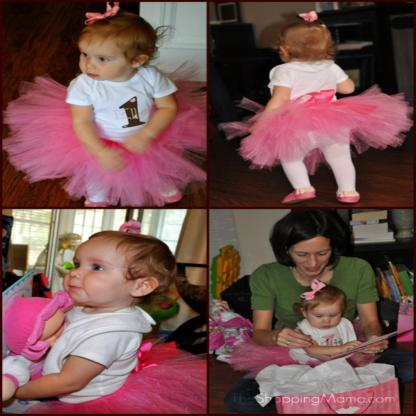face: (65, 236, 131, 305), (81, 37, 130, 82), (290, 238, 333, 278), (306, 306, 342, 329)
